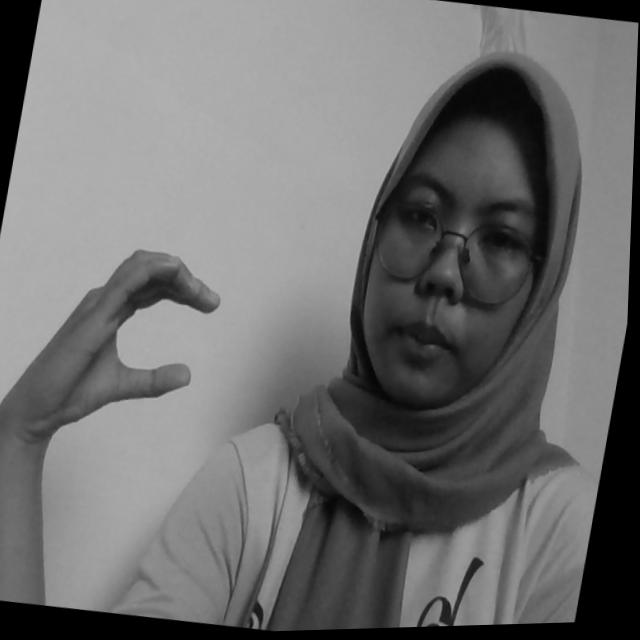C: (1, 228, 233, 466)
